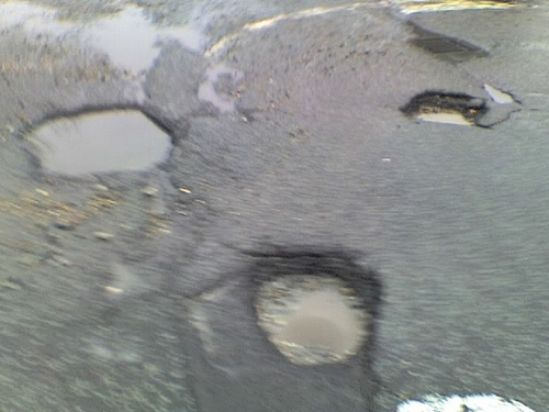pothole: (236, 242, 381, 368), (13, 102, 178, 177), (396, 86, 491, 130)
